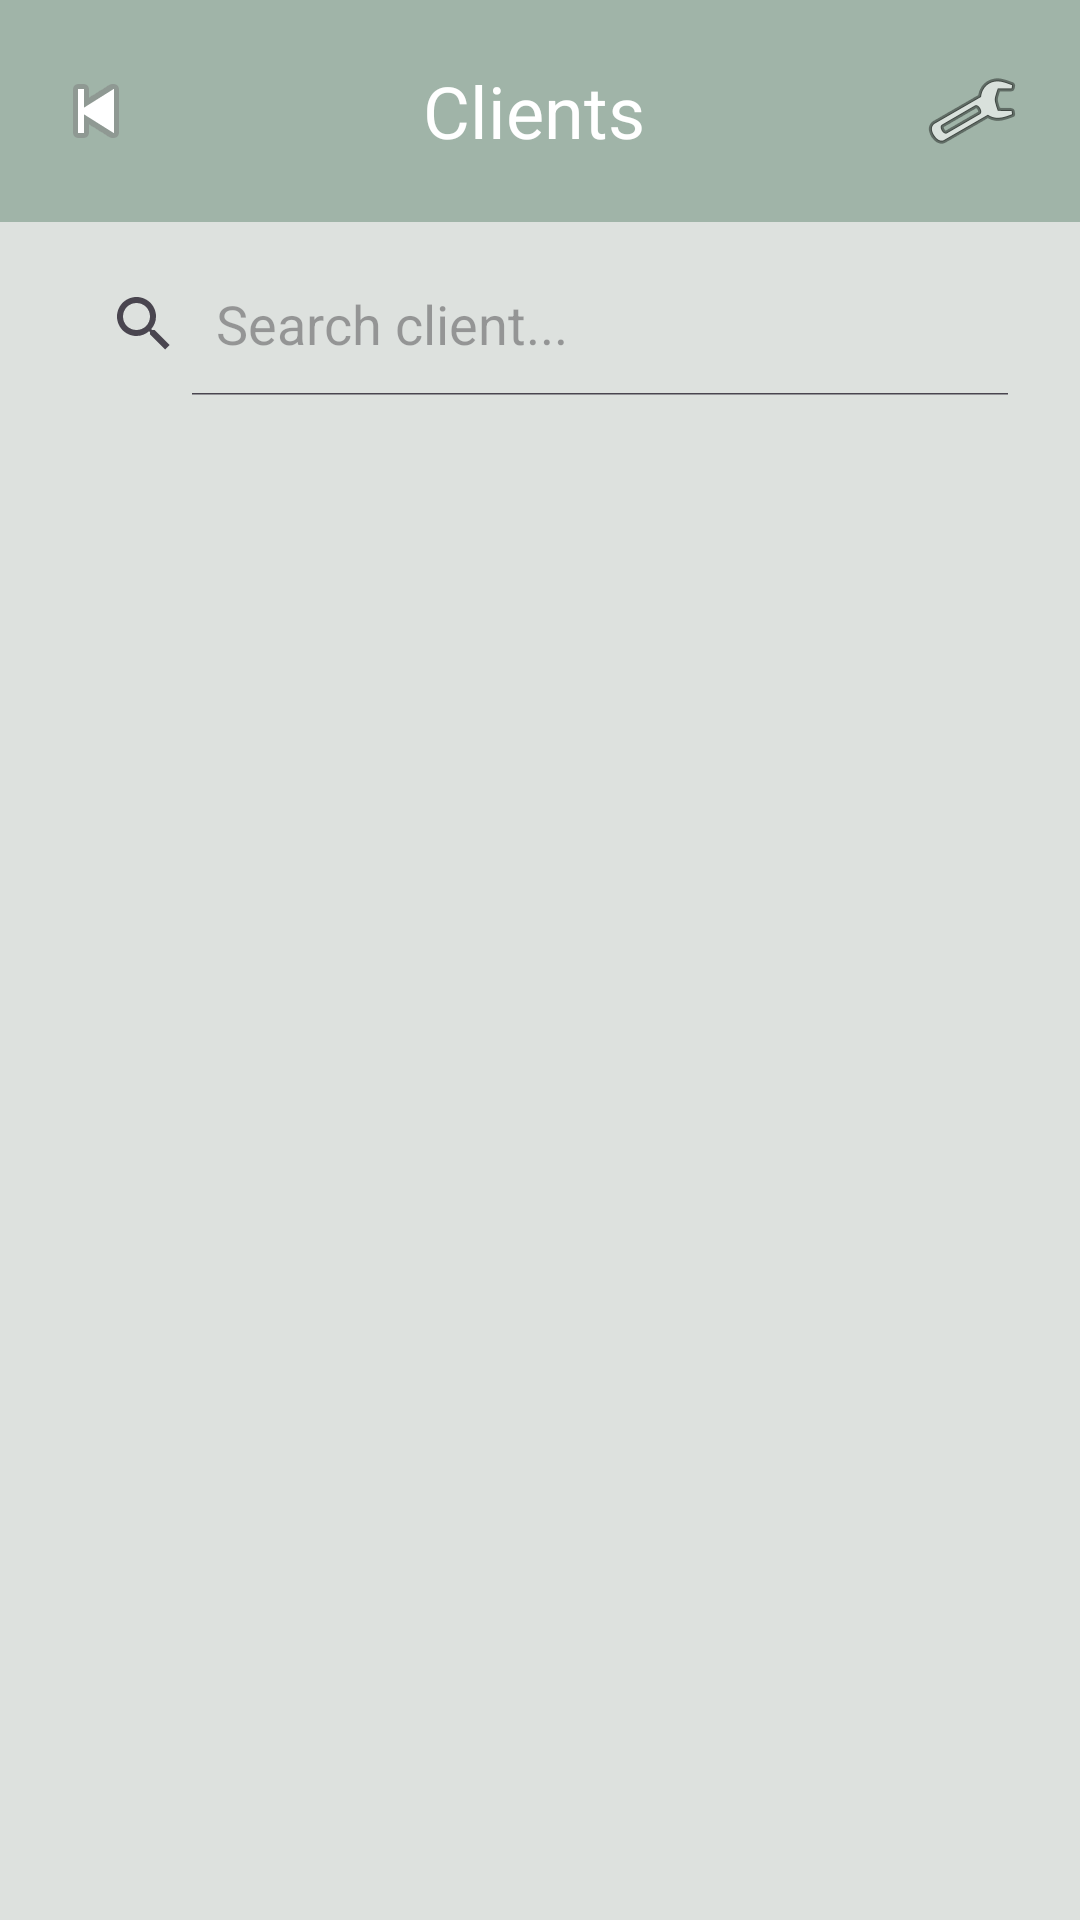

Screen size 1080w x 1920h. Icon name, then its box in pixels as bbox=[x1, y1, x2, y2]:
manage: bbox=[929, 78, 1015, 144]
previous: bbox=[73, 84, 119, 138]
